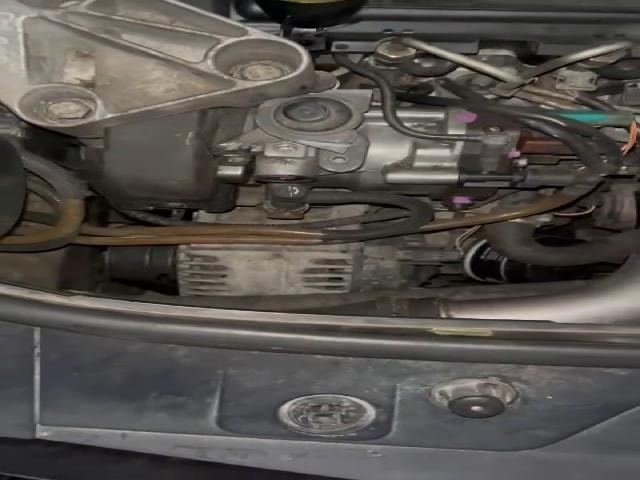alternator: (179, 243, 364, 296)
high_pressure_pump: (250, 106, 581, 208)
